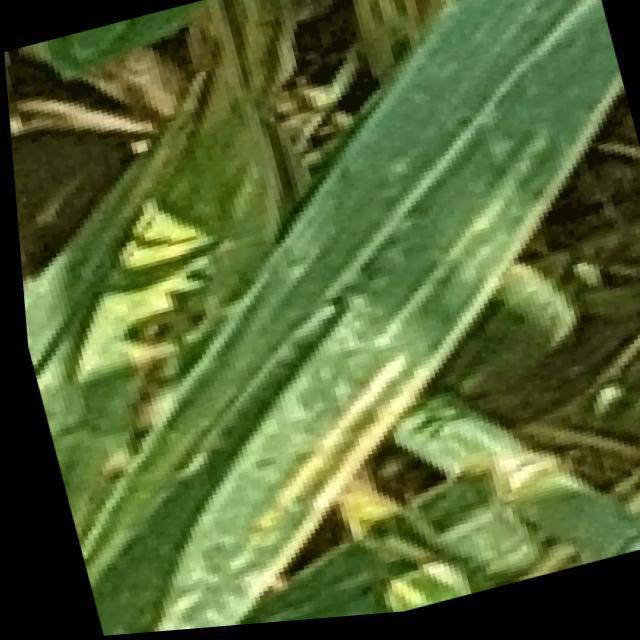Yellow Rust: (30, 0, 636, 628)
